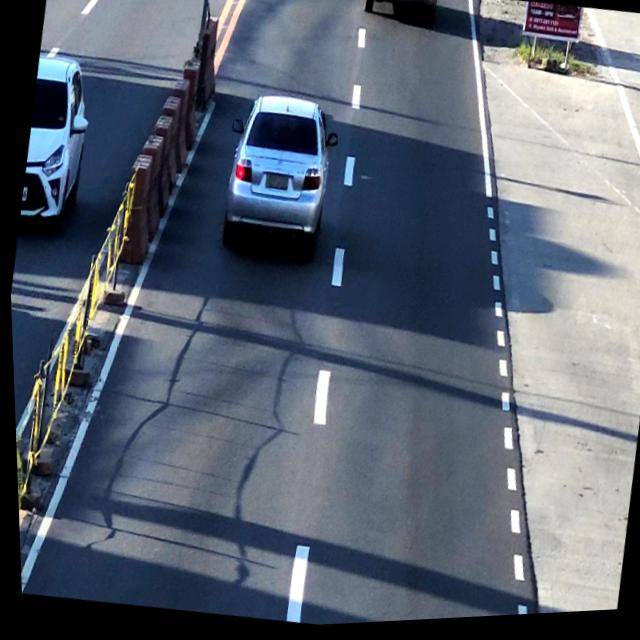Car: (214, 89, 341, 265)
License-Plate: (261, 173, 290, 197)
